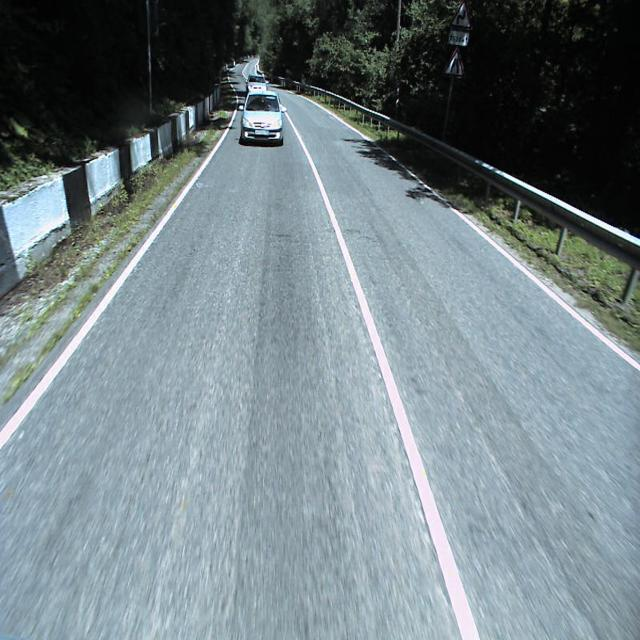road: (0, 84, 640, 639), (228, 59, 257, 102)
